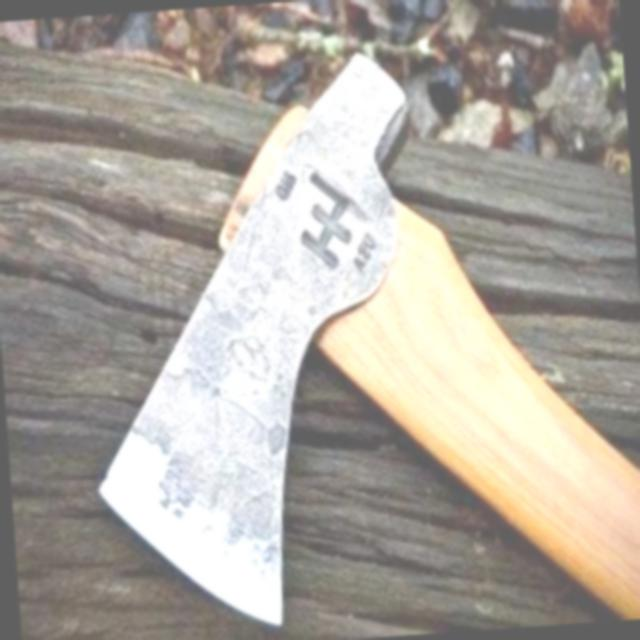ax: (54, 23, 640, 640)
